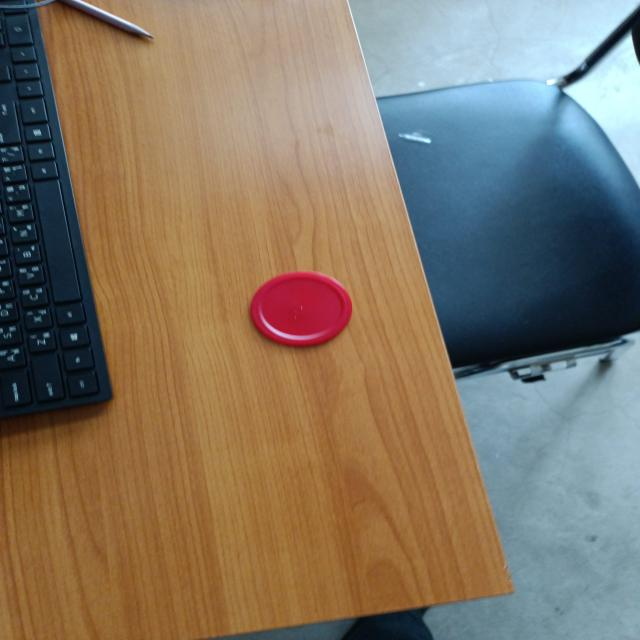chip: (247, 270, 355, 348)
